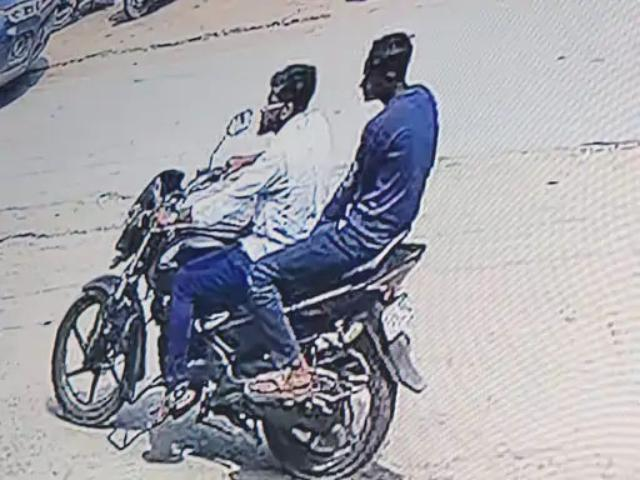licensePlate: (368, 292, 426, 340)
motorcycle: (40, 24, 445, 480)
withoutHelmet: (362, 31, 424, 99), (261, 62, 319, 134)
